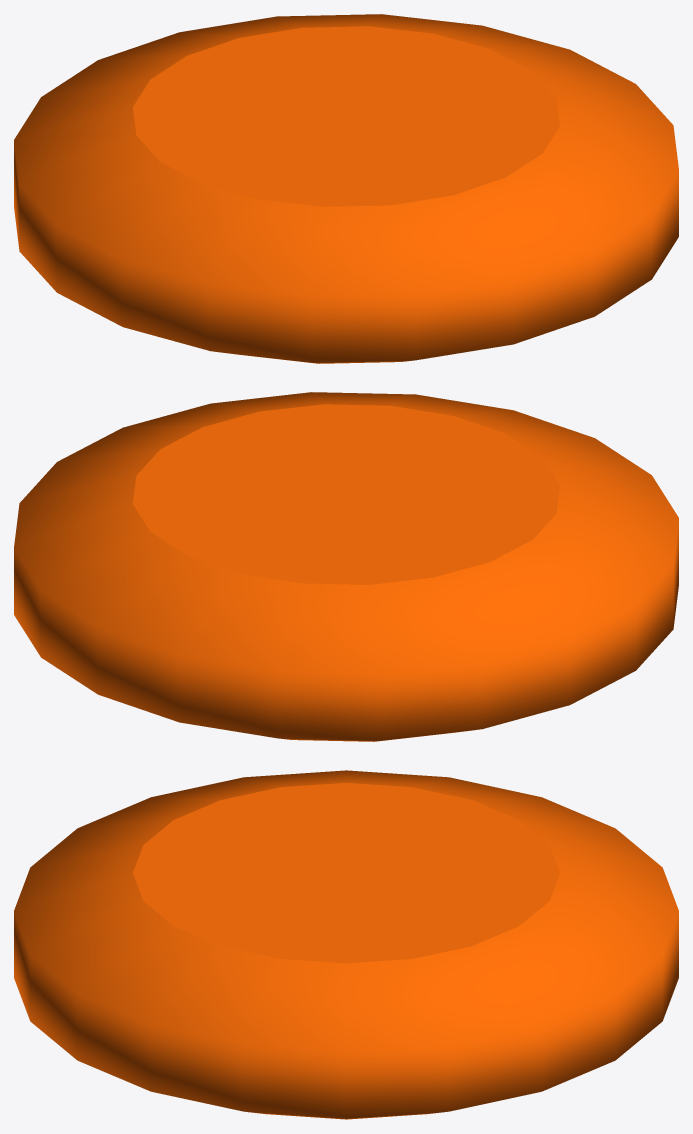
File: DSA2_AirHockey3D_Bouncer_Revised_HongJ.obj
3 renders of one model, top to bottom at view 1: azimuth 30°, elevation 25°; view 2: azimuth 150°, elevation 25°; view 3: azimuth 270°, elevation 25°, orthographic.
Visible parts, largest first — view 1: pasted__pasted__pCylinder2 pasted__group group1; view 2: pasted__pasted__pCylinder2 pasted__group group1; view 3: pasted__pasted__pCylinder2 pasted__group group1.
Boxes of the visible parts, x1,y1,x2,y2 form: pasted__pasted__pCylinder2 pasted__group group1: (14, 14, 678, 363); pasted__pasted__pCylinder2 pasted__group group1: (14, 392, 678, 741); pasted__pasted__pCylinder2 pasted__group group1: (14, 770, 678, 1119).
Size of the model in its own units: 1.87 by 0.4215 by 1.87.
